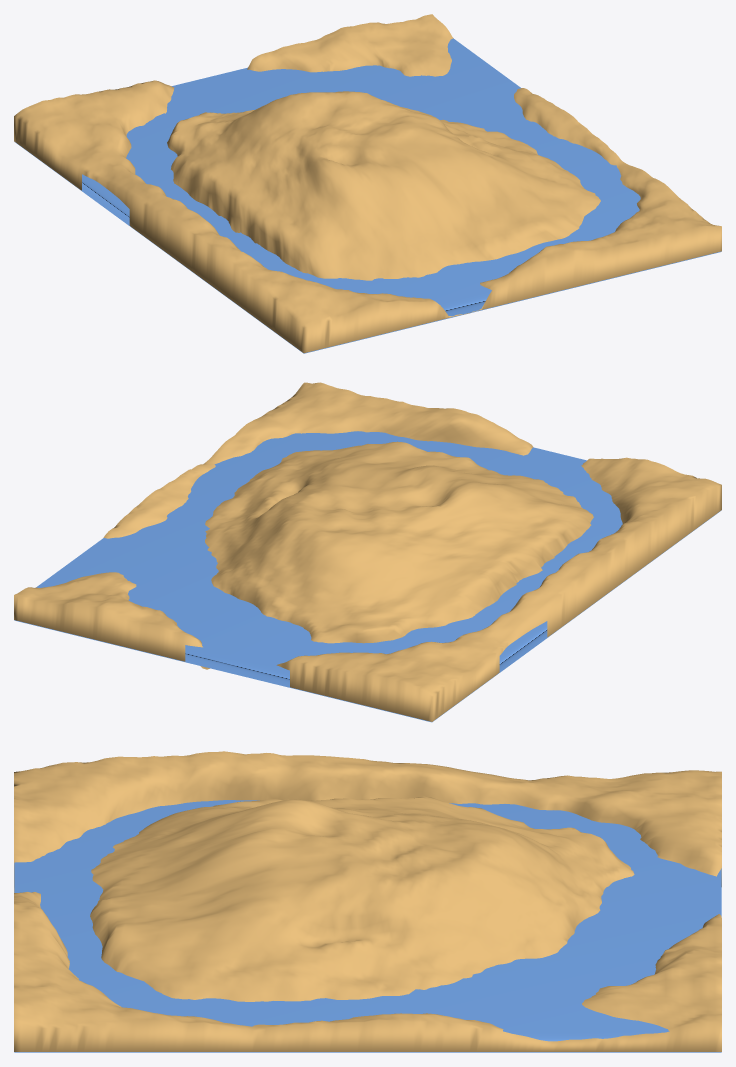
File: environment.fbx
The picture shows the model from 3 angles, top to bottom: view 1: azimuth 30°, elevation 25°; view 2: azimuth 150°, elevation 25°; view 3: azimuth 270°, elevation 25°; orthographic projection. The views are drawn at different scales.
Visible parts, largest first — view 1: Landscape, Water; view 2: Landscape, Water; view 3: Landscape, Water.
Part boxes in pixels (left/top/right/bottom): Landscape: left=14, top=14, right=721, bottom=353; Water: left=15, top=38, right=721, bottom=353; Landscape: left=14, top=382, right=721, bottom=721; Water: left=14, top=431, right=721, bottom=722; Landscape: left=14, top=751, right=721, bottom=1051; Water: left=14, top=800, right=721, bottom=1052.
Size of the model in its own units: 5000 by 1152 by 6000.
